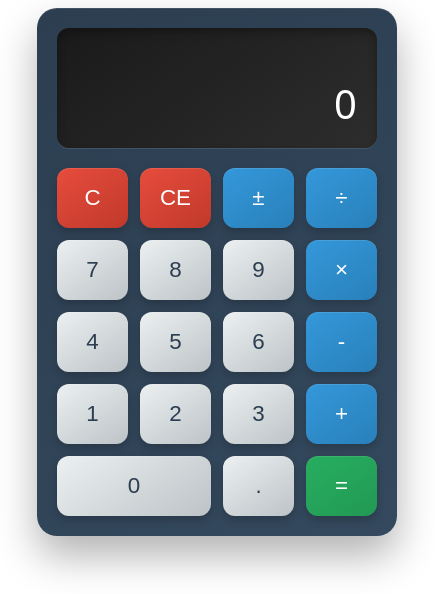
Calculator Component › Number Input › displays multiple digit input
This screenshot has width=435, height=594.
What coordinates should you click on to do the following:
click the button "1"
I would click on:
 (92, 414)
Its box is [57, 384, 128, 444].
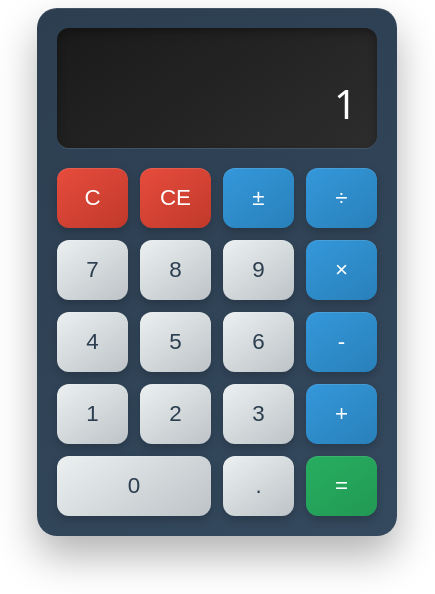
What coordinates should you click on to do the following:
click the button "2"
I would click on:
 (176, 414)
Its box is [140, 384, 211, 444].
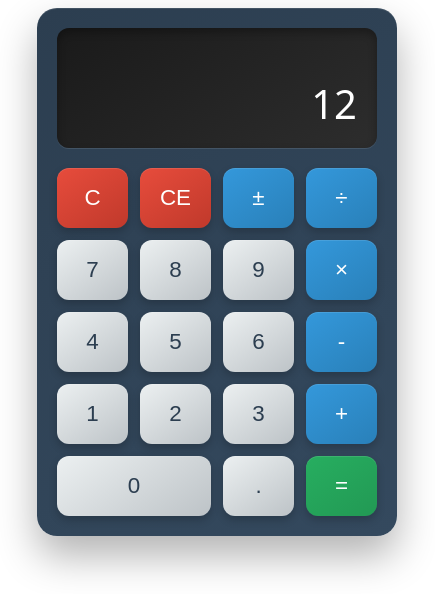
What coordinates should you click on to do the following:
click the button "3"
I would click on:
 (258, 414)
Its box is [223, 384, 294, 444].
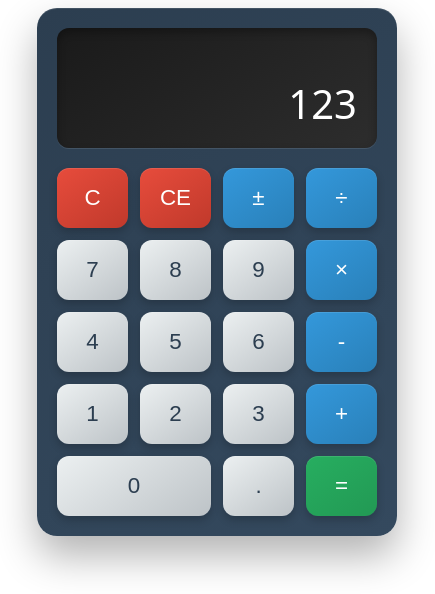
Check: the text "123" is shown, box [288, 76, 357, 131]
